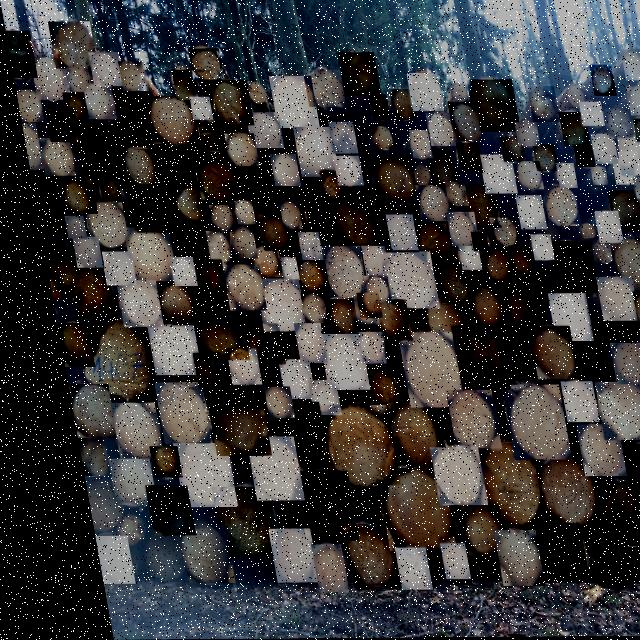wood-log: (67, 320, 146, 403), (358, 469, 437, 551), (303, 405, 382, 486), (459, 443, 527, 529), (385, 333, 452, 408), (488, 385, 555, 460), (194, 487, 261, 558), (276, 471, 339, 542), (518, 460, 582, 529), (191, 389, 255, 456), (574, 482, 636, 547), (157, 443, 219, 507), (324, 526, 381, 591), (230, 437, 287, 501), (439, 326, 496, 390), (140, 382, 197, 444), (513, 524, 569, 583), (431, 391, 486, 451), (180, 303, 237, 360), (413, 448, 469, 506), (581, 383, 637, 441), (159, 525, 214, 584), (373, 403, 426, 464), (373, 253, 429, 309), (96, 402, 147, 459), (115, 227, 168, 281), (134, 323, 189, 375), (474, 530, 524, 587), (306, 334, 356, 390), (244, 279, 296, 332), (464, 80, 516, 132), (248, 529, 298, 583), (54, 384, 102, 439), (540, 242, 589, 295), (516, 327, 565, 380), (266, 76, 315, 128), (560, 425, 609, 477), (324, 196, 374, 246), (127, 485, 176, 536), (312, 246, 358, 299), (142, 96, 192, 144), (122, 184, 172, 232), (69, 122, 120, 169), (59, 269, 106, 319), (24, 170, 59, 236), (187, 152, 235, 200), (47, 22, 96, 69), (441, 506, 486, 556), (288, 128, 333, 178), (34, 239, 72, 298), (364, 157, 412, 203), (106, 280, 152, 328), (92, 459, 139, 505), (537, 294, 582, 342), (601, 238, 640, 291), (77, 202, 121, 248), (212, 265, 256, 311), (489, 283, 530, 332), (571, 544, 614, 589), (207, 81, 250, 126), (348, 368, 391, 412), (585, 278, 628, 322), (75, 536, 114, 584), (411, 299, 453, 343), (336, 53, 378, 96), (609, 445, 640, 503), (291, 545, 328, 593), (453, 185, 493, 229), (28, 58, 68, 100), (146, 283, 186, 325), (232, 324, 272, 365), (360, 300, 400, 341), (425, 263, 464, 305), (45, 323, 82, 367), (482, 333, 519, 377), (600, 192, 638, 233), (597, 344, 635, 385), (559, 342, 597, 383), (546, 382, 584, 423), (374, 549, 411, 591), (300, 70, 342, 107), (230, 166, 270, 204), (406, 225, 444, 265), (473, 155, 511, 194), (536, 187, 573, 227), (4, 31, 35, 78), (242, 112, 281, 149), (265, 360, 301, 400), (458, 289, 494, 329), (33, 138, 70, 176), (404, 74, 440, 112), (169, 187, 205, 224), (118, 147, 153, 185), (282, 323, 314, 364), (213, 349, 248, 386), (275, 403, 309, 441), (444, 102, 477, 141), (409, 186, 444, 222), (313, 298, 348, 334), (164, 227, 201, 261), (182, 260, 217, 295), (86, 52, 121, 87), (55, 180, 90, 214), (92, 251, 126, 286), (294, 380, 327, 416), (250, 215, 283, 251), (80, 84, 113, 120), (180, 353, 213, 389), (377, 215, 410, 251), (219, 134, 254, 167), (438, 212, 471, 247), (524, 87, 556, 123), (421, 150, 452, 187), (240, 244, 273, 278), (286, 260, 319, 294), (472, 253, 505, 287), (194, 231, 225, 267), (62, 438, 91, 476), (41, 109, 74, 142), (186, 49, 221, 80), (420, 544, 450, 580), (554, 113, 585, 147), (508, 196, 539, 230), (133, 447, 165, 479), (421, 113, 451, 147), (264, 154, 294, 187), (622, 536, 640, 590), (17, 123, 38, 169), (63, 237, 94, 268), (250, 387, 280, 419), (323, 122, 353, 154), (481, 218, 511, 249), (220, 227, 249, 259), (586, 212, 615, 244), (346, 332, 375, 364), (612, 136, 640, 169), (327, 157, 357, 187), (116, 61, 146, 91), (352, 246, 381, 277), (13, 90, 40, 122), (510, 163, 538, 193), (585, 135, 613, 165), (600, 109, 628, 139), (386, 90, 413, 121), (289, 293, 316, 324), (587, 65, 613, 97), (499, 246, 525, 277), (451, 143, 477, 174), (626, 321, 640, 377), (193, 123, 221, 151), (160, 257, 187, 286), (169, 70, 195, 100), (353, 276, 381, 303), (342, 296, 368, 325), (201, 205, 227, 232), (527, 145, 553, 172), (313, 171, 338, 199), (289, 233, 314, 261), (612, 152, 640, 177), (606, 159, 631, 186), (626, 378, 640, 425), (619, 50, 640, 81), (59, 93, 84, 119), (345, 293, 371, 318), (297, 202, 320, 230), (404, 131, 427, 159), (495, 137, 520, 162), (521, 235, 545, 261), (272, 202, 294, 230), (622, 292, 640, 326), (510, 123, 535, 147), (575, 103, 600, 127), (64, 68, 89, 92), (449, 246, 472, 271), (438, 182, 461, 207), (92, 178, 115, 202), (186, 97, 210, 120), (549, 164, 571, 189), (56, 216, 79, 239), (226, 201, 248, 225), (366, 95, 386, 121), (623, 87, 640, 116), (270, 258, 290, 282), (458, 558, 477, 583), (367, 128, 388, 150), (568, 146, 589, 168), (463, 232, 481, 252), (584, 168, 602, 186), (626, 177, 640, 199), (628, 119, 640, 142), (637, 201, 640, 237), (638, 427, 640, 467), (639, 151, 640, 183)
